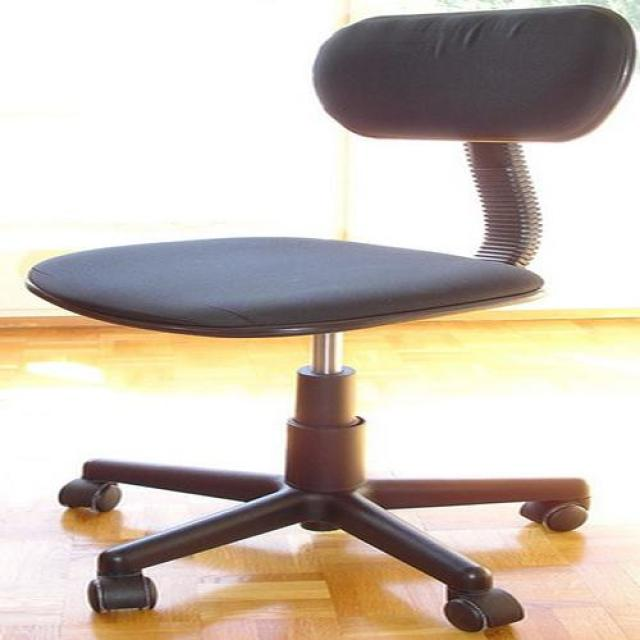swivelchair: (26, 5, 640, 635)
